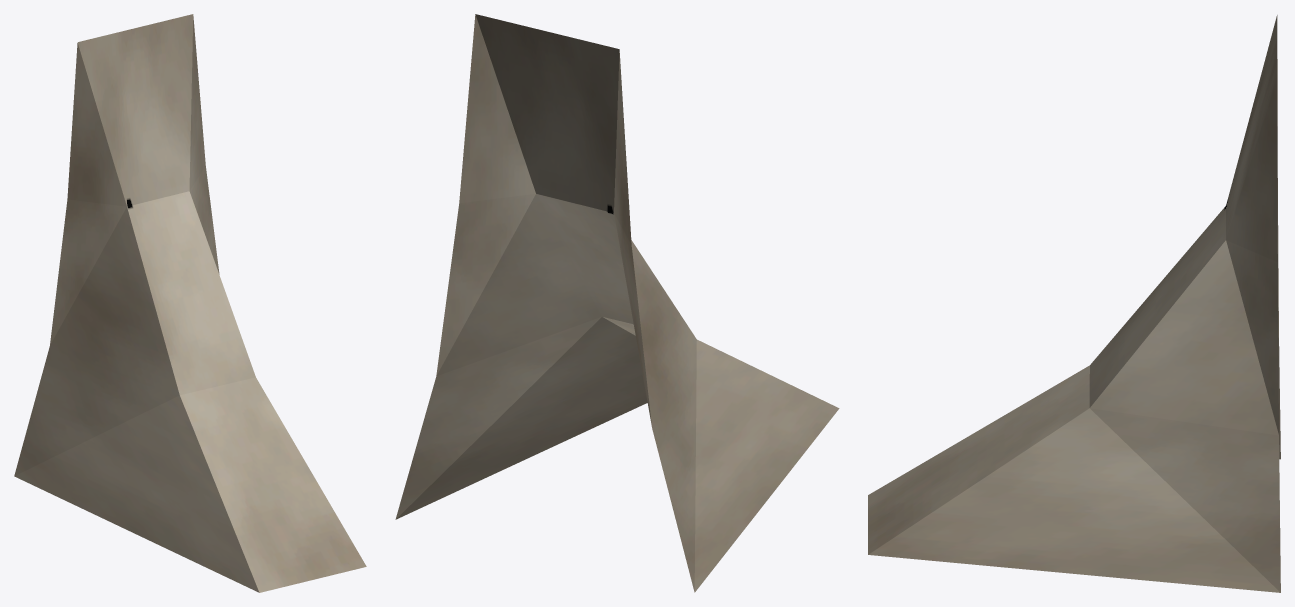
File: web_09.fbx
3 renders of one model, left to right at view 1: azimuth 30°, elevation 25°; view 2: azimuth 150°, elevation 25°; view 3: azimuth 270°, elevation 25°, orthographic. The views are drawn at different scales.
Parts seen in each view (by area): view 1: obj0.174; view 2: obj0.174; view 3: obj0.174.
Part boxes in pixels (x1,y1,x2,y2): obj0.174: (14,14,366,592); obj0.174: (395,14,839,592); obj0.174: (868,15,1280,592).
Bounding box in the file's own units: 3.06 × 5.12 × 4.
